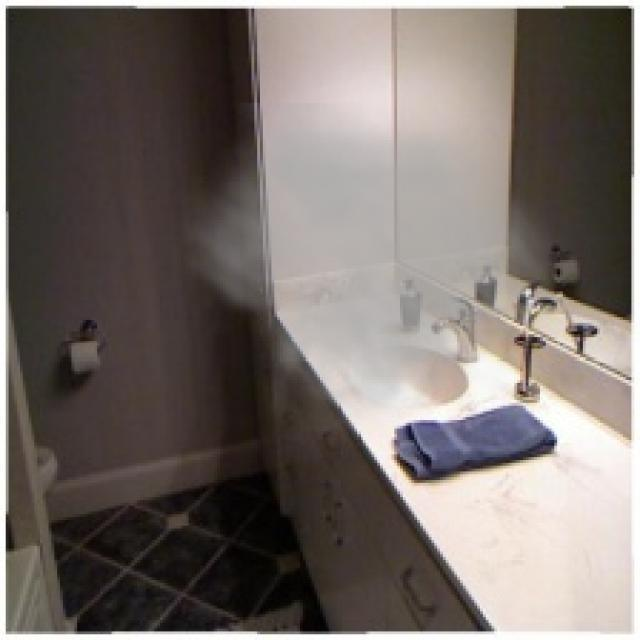Smoke: (168, 102, 568, 448)
